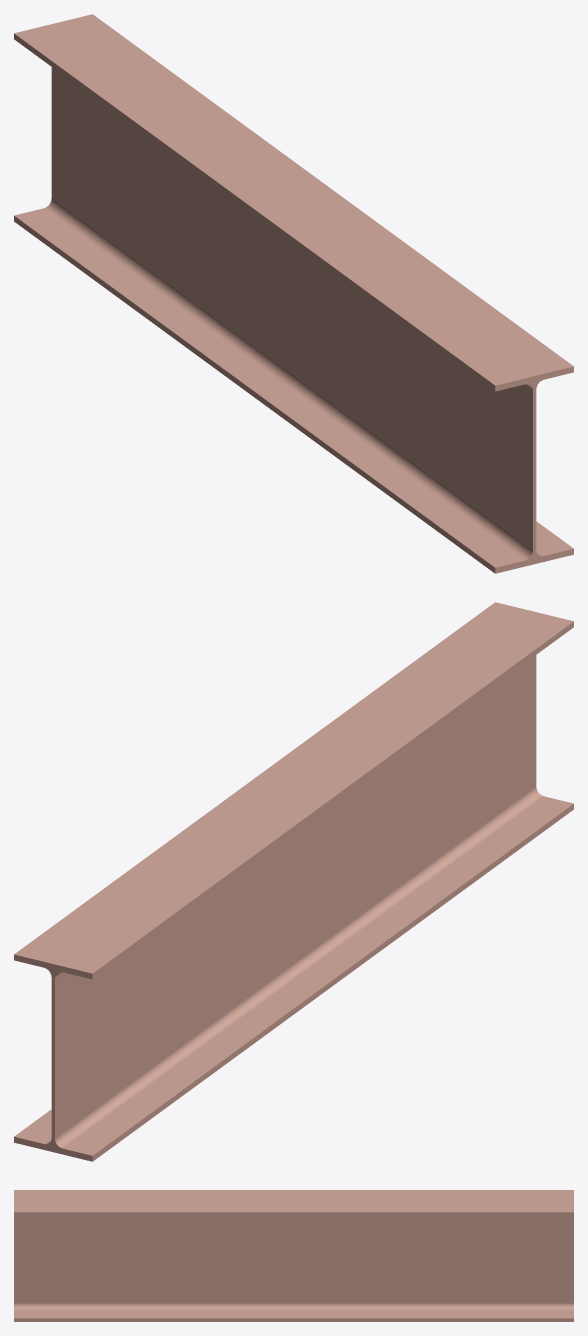
The picture shows the model from 3 angles, top to bottom: view 1: azimuth 30°, elevation 25°; view 2: azimuth 150°, elevation 25°; view 3: azimuth 270°, elevation 25°; orthographic projection. The views are drawn at different scales.
Parts seen in each view (by area): view 1: product-78780599-9b19-4e67-a44a-c9e02bae0eb8-body; view 2: product-78780599-9b19-4e67-a44a-c9e02bae0eb8-body; view 3: product-78780599-9b19-4e67-a44a-c9e02bae0eb8-body.
Boxes of the visible parts, box(x1,y1,x2,y2) form: product-78780599-9b19-4e67-a44a-c9e02bae0eb8-body: box(14, 14, 573, 573); product-78780599-9b19-4e67-a44a-c9e02bae0eb8-body: box(14, 602, 573, 1161); product-78780599-9b19-4e67-a44a-c9e02bae0eb8-body: box(14, 1190, 573, 1321).
Size of the model in its own units: 0.1778 by 0.4064 by 1.88.
